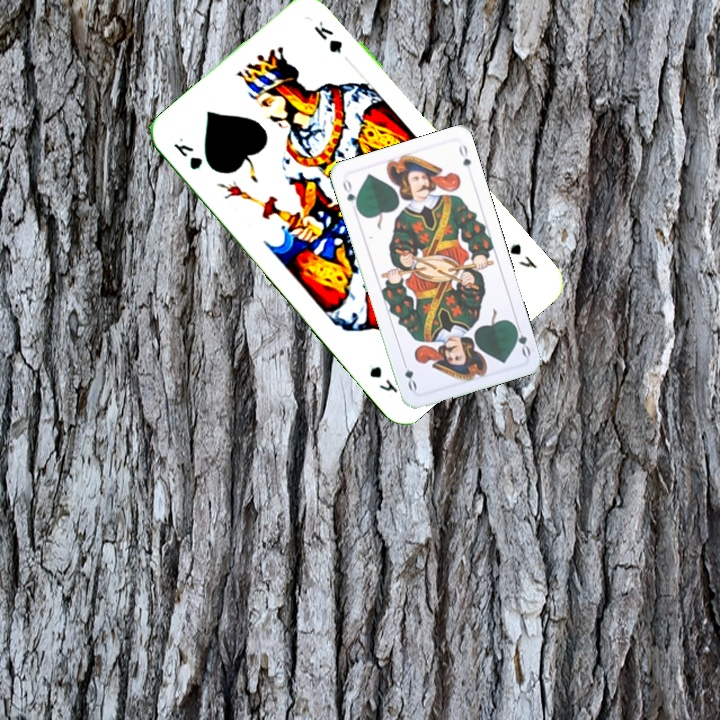GK: (169, 139, 205, 173), (505, 239, 540, 272)
GO: (509, 319, 533, 359), (339, 175, 361, 214)
